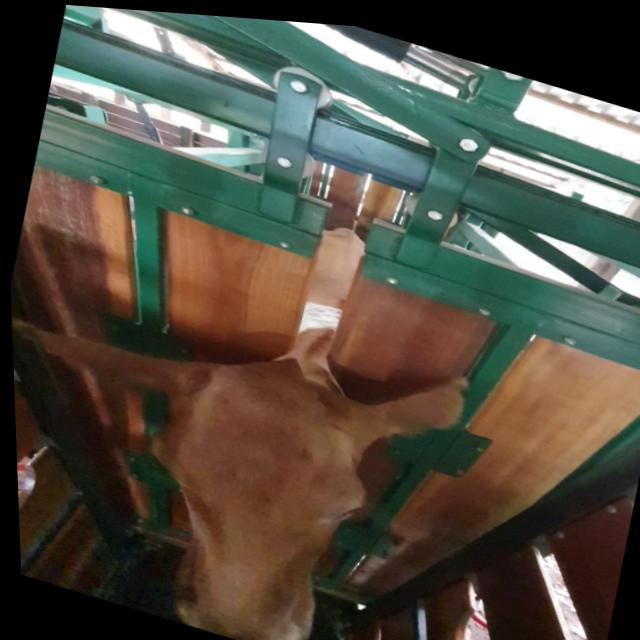cowFace: (103, 329, 385, 640)
